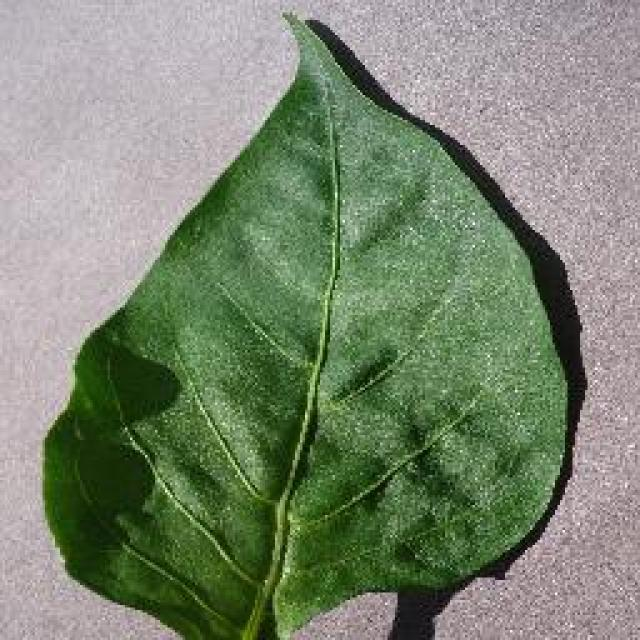Chilli_Healthy: (38, 8, 582, 638)
